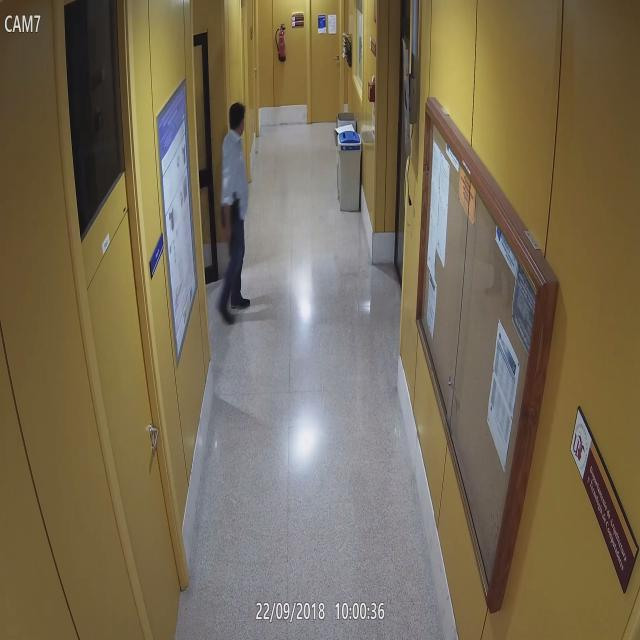Gun: (224, 229, 233, 258)
